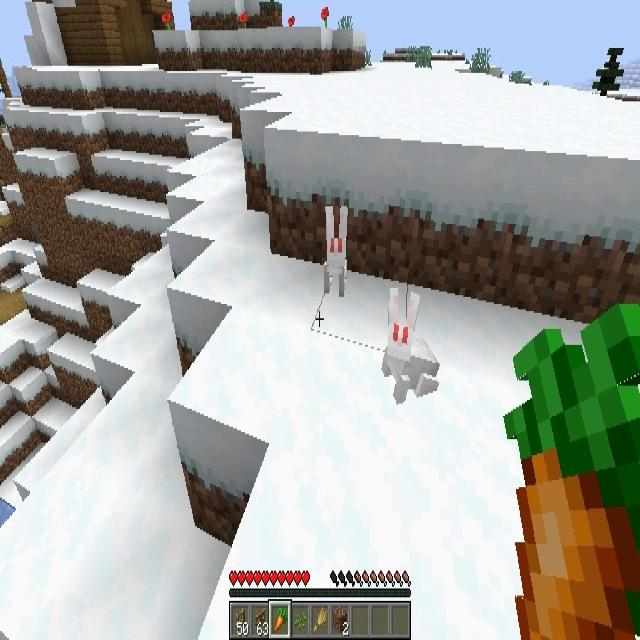rabbit: (382, 289, 443, 400), (324, 204, 348, 296)
